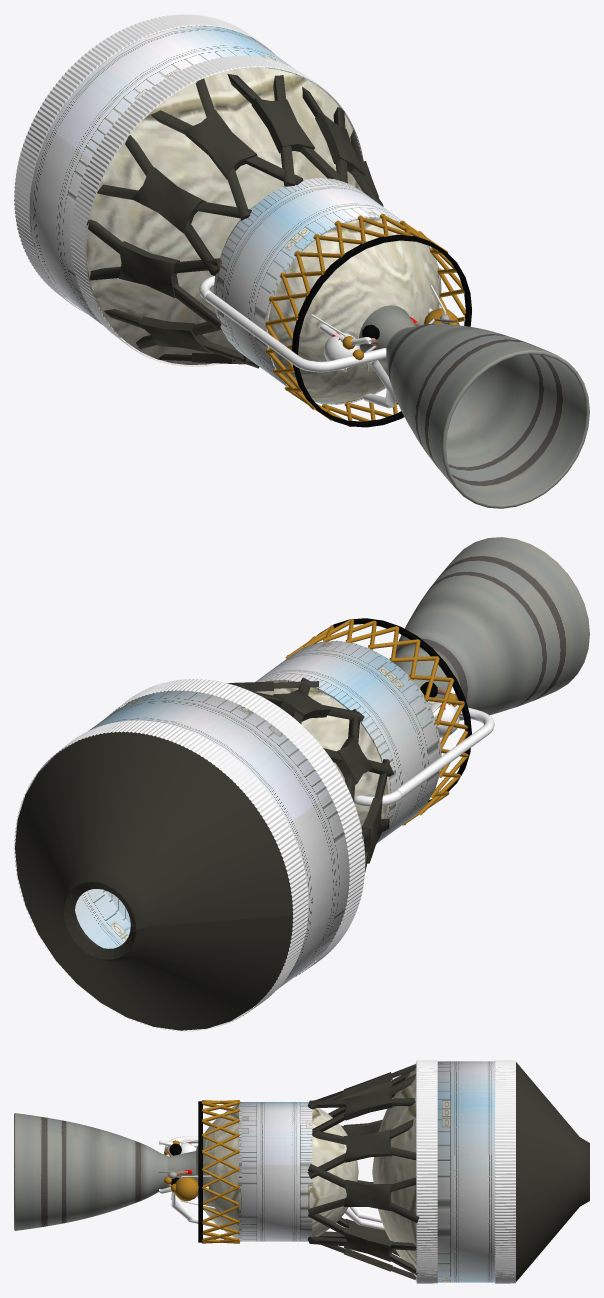
Rendered from deltaivstg2.obj.
3 views of the same model, one above another, from view 1: azimuth 30°, elevation 25°; view 2: azimuth 150°, elevation 25°; view 3: azimuth 270°, elevation 25° (orthographic). The views are drawn at different scales.
Parts seen in each view (by area): view 1: group82, group2249, group2248, group85, group83, group51, group2255, group2261, group87, group2252, group2258, group2276 (+10 smaller); view 2: group0, group82, group2248, group83, group84, group87, group51, group2255, group2261, group2252; view 3: group82, group2248, group83, group0, group2249, group85, group84, group2267, group2264, group2258, group2273, group51 (+13 smaller).
Part boxes in pixels (x1,y1,x2,y2): group82: (359,305,589,508); group2249: (86,67,362,364); group2248: (30,25,314,339); group85: (268,218,439,403); group83: (213,178,441,404); group51: (291,234,471,427); group2255: (131,166,206,233); group2261: (184,109,257,179); group87: (205,292,386,372); group2252: (118,241,179,298); group2258: (251,98,314,153); group2276: (139,316,210,352); group0: (15,731,293,1030); group82: (394,537,589,720); group2248: (61,690,349,1003); group83: (255,640,441,842); group84: (255,681,387,827); group87: (397,701,494,797); group51: (317,618,471,802); group2255: (336,735,373,784); group2261: (273,689,330,721); group2252: (361,798,382,863); group82: (14,1113,195,1230); group2248: (437,1061,494,1282); group83: (239,1102,312,1241); group0: (516,1062,589,1281); group2249: (372,1063,416,1280); group85: (196,1104,238,1238); group84: (312,1108,358,1236); group2267: (343,1129,392,1162); group2264: (343,1179,392,1210); group2258: (344,1086,392,1120); group2273: (344,1227,392,1261); group51: (198,1101,202,1242).
Size of the model in its own units: 5.18 by 5.14 by 13.24.
12 materials, 6 textured.
